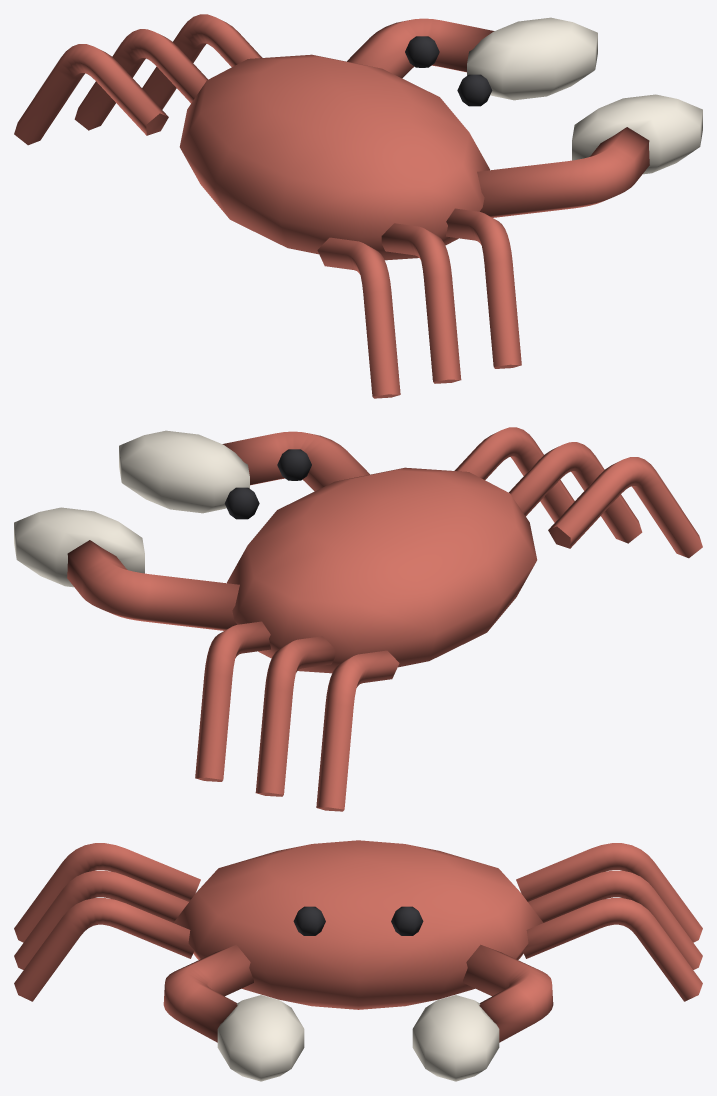
The model's file is forage_crab.glb.
3 renders of one model, top to bottom at view 1: azimuth 30°, elevation 25°; view 2: azimuth 150°, elevation 25°; view 3: azimuth 270°, elevation 25°, orthographic. The views are drawn at different scales.
Parts seen in each view (by area): view 1: PART; view 2: PART; view 3: PART.
Boxes of the visible parts, x1,y1,x2,y2 form: PART: (14,14,702,398); PART: (14,427,702,811); PART: (14,840,702,1081).
Bounding box in the file's own units: 0.1207 × 0.0396 × 0.1697.
